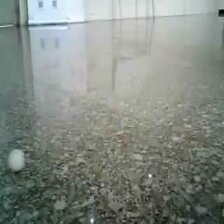w: (6, 147, 27, 172)
